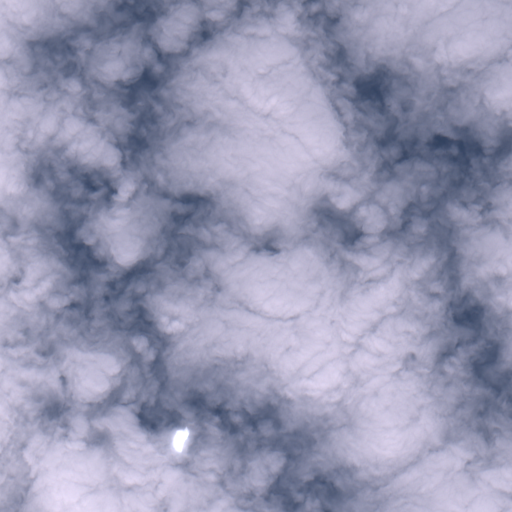Iceberg: (172, 426, 189, 452)
